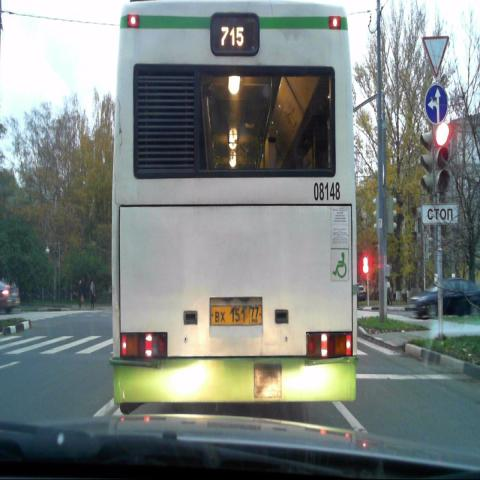4_1_5: (426, 85, 448, 123)
